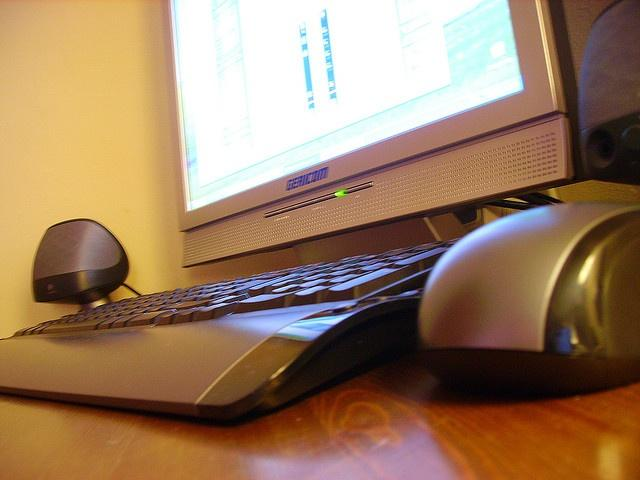AIO PC-Monitor-TV: (159, 0, 569, 267)
